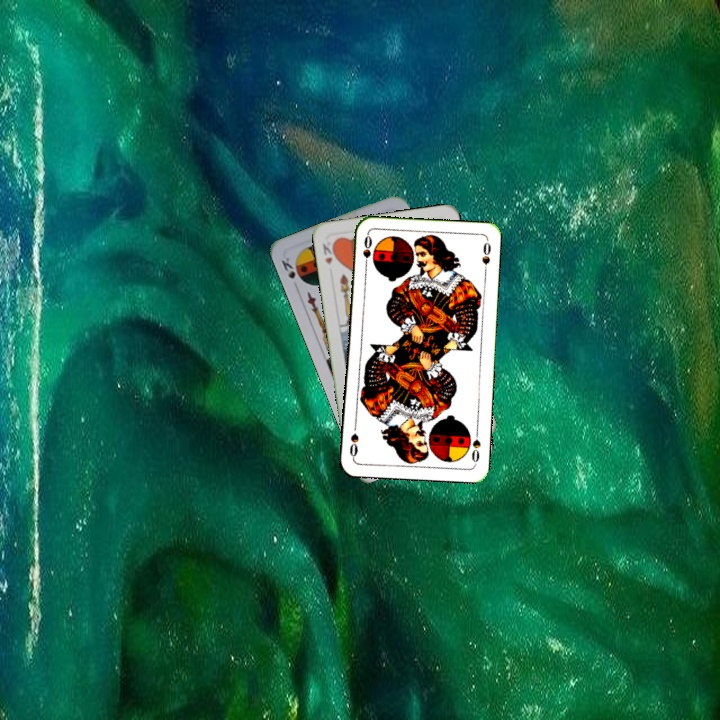HK: (319, 237, 339, 267)
SK: (277, 253, 298, 281)
SO: (359, 231, 375, 272), (467, 426, 483, 466)
